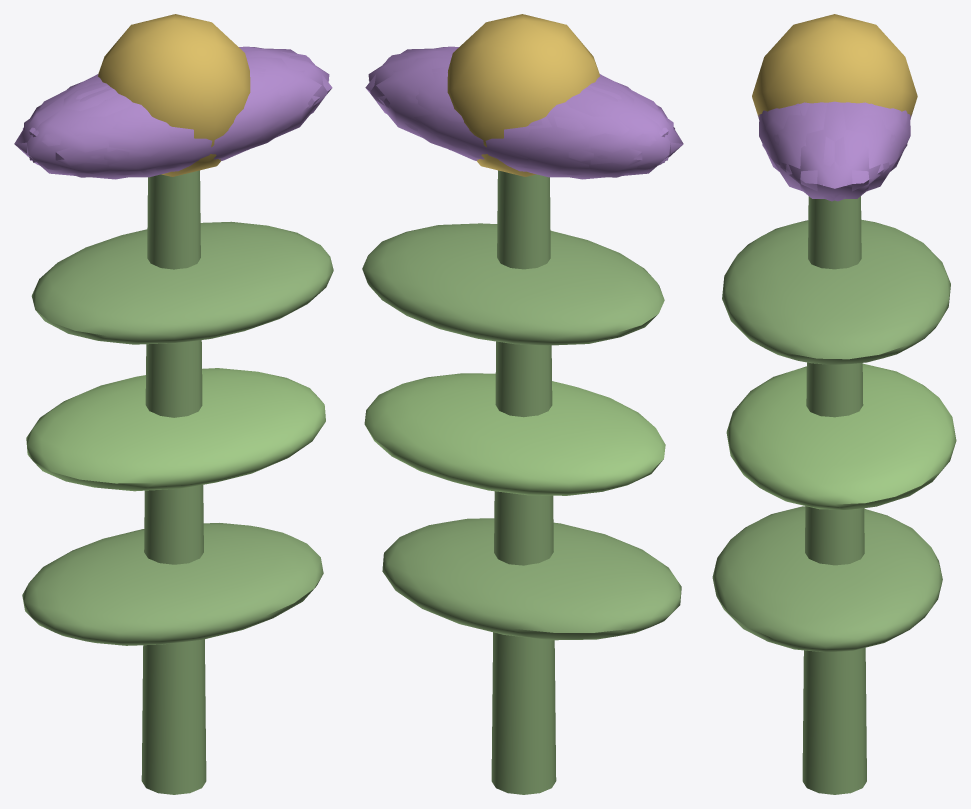
Rendered from euphorbia-pulcherrima.glb.
3 renders of one model, left to right at view 1: azimuth 30°, elevation 25°; view 2: azimuth 150°, elevation 25°; view 3: azimuth 270°, elevation 25°, orthographic.
Visible parts, largest first — view 1: leaf2, leaf0, leaf1, stem, center, petal6, petal2, petal1, petal5, petal7, petal0; view 2: leaf1, leaf2, leaf0, stem, center, petal3, petal7, petal8, petal4, petal2, petal0; view 3: leaf2, leaf1, leaf0, stem, center, petal0, petal4, petal5, petal8, petal1.
Part boxes in pixels (box(x1,y1,x2,y2)): leaf2: box(31, 221, 333, 344); leaf0: box(22, 523, 323, 645); leaf1: box(26, 368, 325, 491); stem: box(141, 170, 206, 794); center: box(98, 14, 250, 176); petal6: box(32, 88, 236, 177); petal2: box(24, 82, 181, 179); petal1: box(104, 66, 314, 175); petal5: box(169, 56, 332, 167); petal7: box(14, 76, 117, 170); petal0: box(243, 48, 329, 150); leaf1: box(364, 373, 665, 495); leaf2: box(362, 223, 664, 345); leaf0: box(382, 518, 681, 640); stem: box(491, 170, 556, 794); center: box(447, 14, 599, 176); petal3: box(461, 88, 665, 177); petal7: box(516, 82, 673, 179); petal8: box(383, 66, 593, 175); petal4: box(365, 56, 528, 167); petal2: box(580, 76, 683, 170); petal0: box(368, 48, 454, 150); leaf2: box(722, 219, 950, 364); leaf1: box(726, 363, 956, 509); leaf0: box(712, 506, 942, 652); stem: box(802, 196, 866, 794); center: box(752, 14, 917, 116); petal0: box(773, 101, 895, 198); petal4: box(822, 102, 907, 201); petal5: box(762, 102, 847, 201); petal8: box(858, 102, 910, 172); petal1: box(759, 102, 810, 172).
Bounding box in the file's own units: 0.1541 × 0.3639 × 0.1059.
